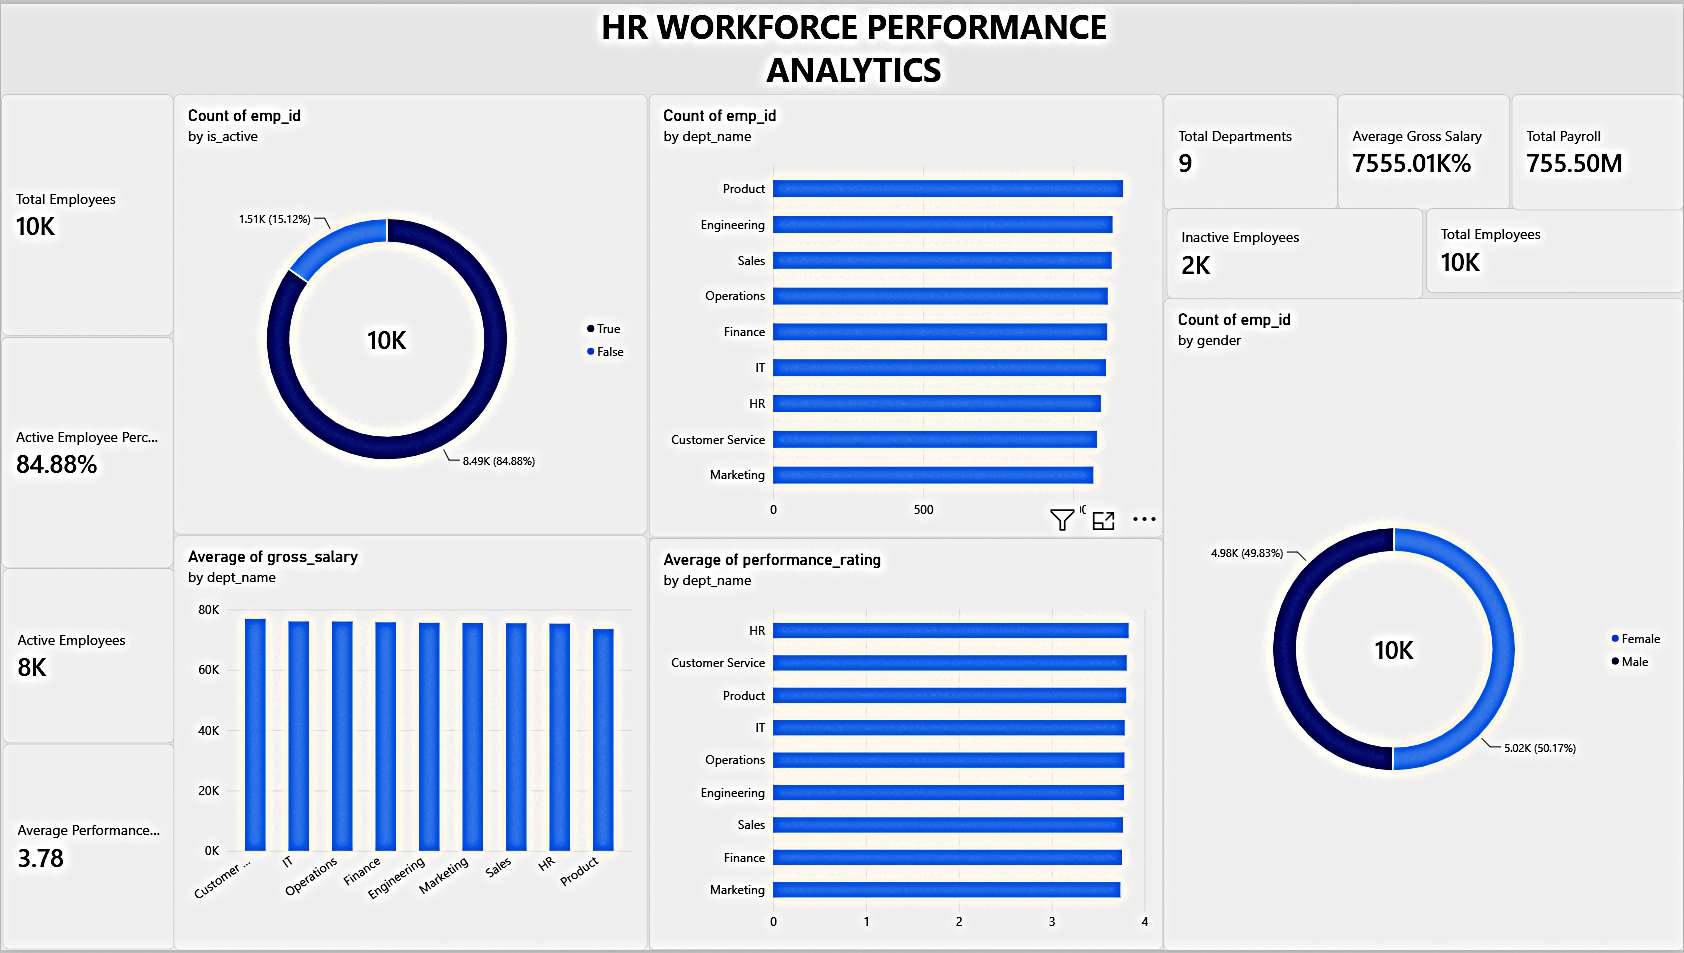

What the dashboard file says about the page in this screenshot:
{"tool":"powerbi","page":{"name":"Page 1","canvas":[1920,1080],"ordinal":0},"visuals":[{"type":"cardVisual","fields":{"Data":["HR Measures.Total Employees"]},"box":[0,103,197.4,276.3],"z":0},{"type":"cardVisual","fields":{"Data":["HR Measures.Active Employee Percentage"]},"box":[0,379.3,197.4,264.3],"z":1000},{"type":"cardVisual","fields":{"Data":["HR Measures.Active Employees"]},"box":[1.7,643.6,197.4,200.8],"z":2000},{"type":"cardVisual","fields":{"Data":["HR Measures.Average Gross Salary"]},"box":[1525.8,103,197.4,133.9],"z":3000},{"type":"cardVisual","fields":{"Data":["HR Measures.Average Performance Rating"]},"box":[1.7,844.4,197.4,235.1],"z":4000},{"type":"cardVisual","fields":{"Data":["HR Measures.Total Departments"]},"box":[1326.7,103,199.1,133.9],"z":5000},{"type":"cardVisual","fields":{"Data":["HR Measures.Total Employees"]},"box":[1626.2,232.8,294.4,104.4],"z":6000},{"type":"cardVisual","fields":{"Data":["HR Measures.Total Payroll"]},"box":[1723.2,103,197.4,133.9],"z":7000},{"type":"cardVisual","fields":{"Data":["HR Measures.Inactive Employees"]},"box":[1330.2,233.4,293.5,104.7],"z":8000},{"type":"donutChart","fields":{"Category":["hr_workforce_analytics employees.is_active"],"Y":["CountNonNull(hr_workforce_analytics employees.emp_id)"]},"box":[197.4,103,540.6,502.9],"z":9000},{"type":"clusteredBarChart","fields":{"Category":["hr_workforce_analytics departments.dept_name"],"Y":["CountNonNull(hr_workforce_analytics salaries.emp_id)"]},"box":[739.7,103,587,506.3],"z":10000},{"type":"textbox","box":[619.6,0,707.1,103],"z":11000},{"type":"clusteredColumnChart","fields":{"Category":["hr_workforce_analytics departments.dept_name"],"Y":["Avg(hr_workforce_analytics salaries.gross_salary)"]},"box":[197.4,605.9,540.6,473.7],"z":12000},{"type":"clusteredBarChart","fields":{"Category":["hr_workforce_analytics departments.dept_name"],"Y":["Avg(hr_workforce_analytics salaries.performance_rating)"]},"box":[739.7,609.3,587,470.3],"z":13000},{"type":"donutChart","fields":{"Category":["hr_workforce_analytics employees.gender"],"Y":["CountNonNull(hr_workforce_analytics employees.emp_id)"]},"box":[1326.7,334.7,593.9,744.9],"z":14000}]}

Visuals, with their boxes in screenshot pixels (x1, y1, x2, y2), scaled from the page's 1920x1080 canvas onto the 1684x953 screenshot:
cardVisual - HR Measures.Total Employees: (left=0, top=91, right=173, bottom=335)
cardVisual - HR Measures.Active Employee Percentage: (left=0, top=335, right=173, bottom=568)
cardVisual - HR Measures.Active Employees: (left=1, top=568, right=175, bottom=745)
cardVisual - HR Measures.Average Gross Salary: (left=1338, top=91, right=1511, bottom=209)
cardVisual - HR Measures.Average Performance Rating: (left=1, top=745, right=175, bottom=952)
cardVisual - HR Measures.Total Departments: (left=1164, top=91, right=1338, bottom=209)
cardVisual - HR Measures.Total Employees: (left=1426, top=205, right=1683, bottom=298)
cardVisual - HR Measures.Total Payroll: (left=1511, top=91, right=1683, bottom=209)
cardVisual - HR Measures.Inactive Employees: (left=1167, top=206, right=1424, bottom=298)
donutChart - hr_workforce_analytics employees.is_active x CountNonNull(hr_workforce_analytics employees.emp_id): (left=173, top=91, right=647, bottom=535)
clusteredBarChart - hr_workforce_analytics departments.dept_name x CountNonNull(hr_workforce_analytics salaries.emp_id): (left=649, top=91, right=1164, bottom=538)
textbox: (left=543, top=0, right=1164, bottom=91)
clusteredColumnChart - hr_workforce_analytics departments.dept_name x Avg(hr_workforce_analytics salaries.gross_salary): (left=173, top=535, right=647, bottom=952)
clusteredBarChart - hr_workforce_analytics departments.dept_name x Avg(hr_workforce_analytics salaries.performance_rating): (left=649, top=538, right=1164, bottom=952)
donutChart - hr_workforce_analytics employees.gender x CountNonNull(hr_workforce_analytics employees.emp_id): (left=1164, top=295, right=1683, bottom=952)
